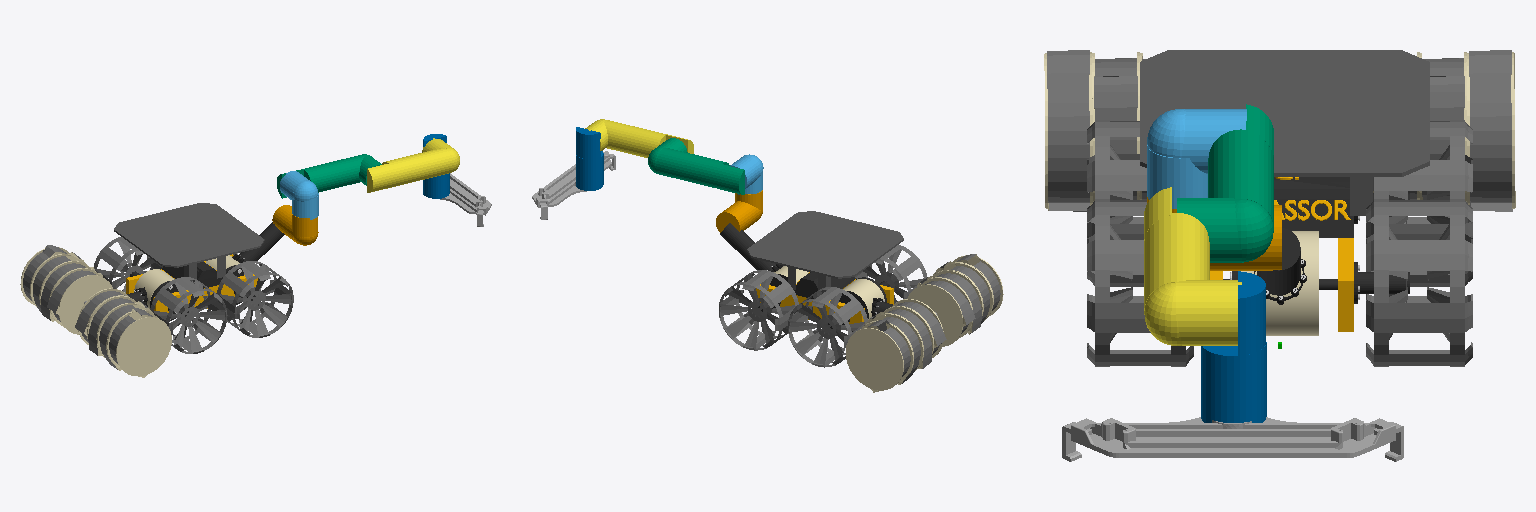
--- Render facts (derived) ---
3 views of the same robot in one strip: view 1: azimuth 30°, elevation 25°; view 2: azimuth 150°, elevation 25°; view 3: azimuth 270°, elevation 25° (orthographic).
Robot: ezrassor — 22 links, 21 joints (11 continuous, 2 prismatic, 8 fixed); root link base_link; default pose: every joint at zero.
Links seen in each view (by area): view 1: drum_back, platform, right_wheel_front, right_wheel_back, link4, link3, left_wheel_back, link2, body, link1, arm_front, arm_back (+2 smaller); view 2: drum_back, platform, left_wheel_front, left_wheel_back, link3, link4, right_wheel_back, link5, body, link1, arm_front, link6 (+2 smaller); view 3: platform, drum_back, left_wheel_front, link6, link4, link3, right_wheel_front, link5, body, link2, left_wheel_back, arm_front (+2 smaller).
Boxes of the visible links, <box> form: drum_back: <box>20,245,171,377</box>; platform: <box>114,203,264,283</box>; right_wheel_front: <box>216,261,293,337</box>; right_wheel_back: <box>150,277,227,353</box>; link4: <box>367,138,459,192</box>; link3: <box>277,154,381,198</box>; left_wheel_back: <box>94,237,162,292</box>; link2: <box>280,171,318,219</box>; body: <box>126,254,257,313</box>; link1: <box>272,205,318,245</box>; arm_front: <box>206,222,284,304</box>; arm_back: <box>127,269,178,320</box>; drum_back: <box>846,254,1003,392</box>; platform: <box>747,211,903,293</box>; left_wheel_front: <box>719,270,798,350</box>; left_wheel_back: <box>788,287,867,367</box>; link3: <box>648,138,744,194</box>; link4: <box>585,119,693,157</box>; right_wheel_back: <box>855,245,926,303</box>; link5: <box>576,127,603,190</box>; body: <box>756,272,893,324</box>; link1: <box>716,190,762,232</box>; arm_front: <box>720,223,808,286</box>; link6: <box>532,151,611,207</box>; platform: <box>1140,50,1429,215</box>; drum_back: <box>1044,50,1515,211</box>; left_wheel_front: <box>1358,199,1472,366</box>; link6: <box>1071,417,1395,457</box>; link4: <box>1144,187,1241,345</box>; link3: <box>1177,104,1273,262</box>; right_wheel_front: <box>1087,199,1193,366</box>; link5: <box>1201,271,1266,422</box>; body: <box>1210,177,1359,331</box>; link2: <box>1147,109,1246,208</box>; left_wheel_back: <box>1366,120,1472,286</box>; arm_front: <box>1230,228,1318,335</box>.
Bounding box of the posed robot: 2.37 × 1 × 0.7599 m (x, y, z).
17 mesh visuals loaded from 14 distinct referenced files (13 Collada DAE); not drawn: 1 (reference not matched to a file when rendering).

The robot description file, URDF, robot "ezrassor":
<?xml version="1.0" encoding="utf-8"?>
<!-- =================================================================================== -->
<!-- |    This document was autogenerated by xacro from ezrassor_arm.xacro             | -->
<!-- |    EDITING THIS FILE BY HAND IS NOT RECOMMENDED                                 | -->
<!-- =================================================================================== -->
<robot name="ezrassor">
  <gazebo reference="base_link">
    <selfCollide>0</selfCollide>
  </gazebo>
  <!-- Arms and Drums -->
  <gazebo reference="arm_back">
    <material>Gazebo/Black</material>
    <selfCollide>1</selfCollide>
  </gazebo>
  <gazebo reference="drum_back">
    <selfCollide>1</selfCollide>
  </gazebo>
  <!-- Wheels -->
  <gazebo reference="left_wheel_front">
    <selfCollide>1</selfCollide>
    <mu1 value=".8"/>
    <mu2 value=".8"/>
    <kp value="10000000.0"/>
    <kd value="1.0"/>
    <fdir1 value="1 0 0"/>
  </gazebo>
  <gazebo reference="left_wheel_back">
    <selfCollide>1</selfCollide>
    <mu1 value=".8"/>
    <mu2 value=".8"/>
    <kp value="10000000.0"/>
    <kd value="1.0"/>
    <fdir1 value="1 0 0"/>
  </gazebo>
  <gazebo reference="right_wheel_front">
    <selfCollide>1</selfCollide>
    <mu1 value=".8"/>
    <mu2 value=".8"/>
    <kp value="10000000.0"/>
    <kd value="1.0"/>
    <fdir1 value="1 0 0"/>
  </gazebo>
  <gazebo reference="right_wheel_back">
    <selfCollide>1</selfCollide>
    <mu1 value=".8"/>
    <mu2 value=".8"/>
    <kp value="10000000.0"/>
    <kd value="1.0"/>
    <fdir1 value="1 0 0"/>
  </gazebo>
  <!-- EZRASSOR Arm -->
  <gazebo reference="link1">
    <selfCollide>1</selfCollide>
  </gazebo>
  <gazebo reference="link2">
    <selfCollide>1</selfCollide>
  </gazebo>
  <gazebo reference="link3">
    <selfCollide>1</selfCollide>
  </gazebo>
  <gazebo reference="link4">
    <selfCollide>1</selfCollide>
  </gazebo>
  <gazebo reference="link5">
    <selfCollide>1</selfCollide>
  </gazebo>
  <gazebo reference="link6">
    <selfCollide>1</selfCollide>
  </gazebo>
  <gazebo reference="arm_camera">
    <selfCollide>1</selfCollide>
  </gazebo>
  <gazebo reference="grabber1">
    <selfCollide>1</selfCollide>
  </gazebo>
  <gazebo reference="grabber2">
    <selfCollide>1</selfCollide>
  </gazebo>
  <gazebo reference="arm_front">
    <selfCollide>1</selfCollide>
  </gazebo>
  <gazebo reference="platform">
    <selfCollide>1</selfCollide>
  </gazebo>
  <!-- Cameras -->
  <gazebo reference="depth_camera_front">
    <sensor name="depth_camera_front_camera" type="depth">
      <update_rate>30</update_rate>
      <camera>
        <horizontal_fov>1.29154</horizontal_fov>
        <image>
          <width>640</width>
          <height>480</height>
          <format>R8G8B8</format>
        </image>
        <clip>
          <near>0.105</near>
          <far>10</far>
        </clip>
      </camera>
      <plugin filename="libgazebo_ros_openni_kinect.so" name="depth_camera_front_controller">
        <baseline>0.2</baseline>
        <alwaysOn>true</alwaysOn>
        <updateRate>0.0</updateRate>
        <cameraName/>
        <imageTopicName>color/image_raw</imageTopicName>
        <cameraInfoTopicName>color/camera_info</cameraInfoTopicName>
        <depthImageTopicName>depth/image_raw</depthImageTopicName>
        <depthImageInfoTopicName>depth/camera_info</depthImageInfoTopicName>
        <pointCloudTopicName>depth/points</pointCloudTopicName>
        <frameName>/depth_camera_optical_frame</frameName>
        <pointCloudCutoff>0.105</pointCloudCutoff>
        <pointCloudCutoffMax>10</pointCloudCutoffMax>
        <distortionK1>0</distortionK1>
        <distortionK2>0</distortionK2>
        <distortionK3>0</distortionK3>
        <distortionT1>0</distortionT1>
        <distortionT2>0</distortionT2>
        <CxPrime>0</CxPrime>
        <Cx>0</Cx>
        <Cy>0</Cy>
        <focalLength>0</focalLength>
        <hackBaseline>0</hackBaseline>
      </plugin>
    </sensor>
  </gazebo>
  <!-- Arm Cameras -->
  <gazebo reference="arm_camera">
    <sensor name="depth_camera_arm_camera" type="depth">
      <update_rate>30</update_rate>
      <camera>
        <horizontal_fov>1.29154</horizontal_fov>
        <image>
          <width>640</width>
          <height>480</height>
          <format>R8G8B8</format>
        </image>
        <clip>
          <near>0.105</near>
          <far>10</far>
        </clip>
      </camera>
      <plugin filename="libgazebo_ros_openni_kinect.so" name="depth_camera_arm_controller">
        <baseline>0.2</baseline>
        <alwaysOn>true</alwaysOn>
        <updateRate>0.0</updateRate>
        <cameraName/>
        <imageTopicName>color/image_raw_arm</imageTopicName>
        <cameraInfoTopicName>color/camera_info_arm</cameraInfoTopicName>
        <depthImageTopicName>depth/image_raw_arm</depthImageTopicName>
        <depthImageInfoTopicName>depth/camera_info_arm</depthImageInfoTopicName>
        <pointCloudTopicName>depth/points_arm</pointCloudTopicName>
        <frameName>/arm_camera</frameName>
        <pointCloudCutoff>0.105</pointCloudCutoff>
        <pointCloudCutoffMax>10</pointCloudCutoffMax>
        <distortionK1>0</distortionK1>
        <distortionK2>0</distortionK2>
        <distortionK3>0</distortionK3>
        <distortionT1>0</distortionT1>
        <distortionT2>0</distortionT2>
        <CxPrime>0</CxPrime>
        <Cx>0</Cx>
        <Cy>0</Cy>
        <focalLength>0</focalLength>
        <hackBaseline>0</hackBaseline>
      </plugin>
    </sensor>
  </gazebo>
  <!-- IMU -->
  <gazebo>
    <plugin filename="libgazebo_ros_imu.so" name="imu_plugin">
      <alwaysOn>true</alwaysOn>
      <updateRate>50.0</updateRate>
      <bodyName>imu_link</bodyName>
      <topicName>imu</topicName>
      <gaussianNoise>0.05</gaussianNoise>
    </plugin>
  </gazebo>
  <gazebo>
    <plugin filename="libgazebo_ros_control.so" name="gazebo_ros_control">
    </plugin>
  </gazebo>
  <material name="black">
    <color rgba="0.0 0.0 0.0 1.0"/>
  </material>
  <material name="blue">
    <color rgba="0.0 0.0 0.8 1.0"/>
  </material>
  <material name="green">
    <color rgba="0.0 0.8 0.0 1.0"/>
  </material>
  <material name="grey">
    <color rgba="0.2 0.2 0.2 1.0"/>
  </material>
  <material name="orange">
    <color rgba="1.0 0.423529411765 0.0392156862745 1.0"/>
  </material>
  <material name="brown">
    <color rgba="0.870588235294 0.811764705882 0.764705882353 1.0"/>
  </material>
  <material name="red">
    <color rgba="0.8 0.0 0.0 1.0"/>
  </material>
  <material name="white">
    <color rgba="1.0 1.0 1.0 1.0"/>
  </material>
  <!-- ARM VISUAL AND COLLISION MACROS -->
  <!--Below are all of the robot's Links/-->
  <link name="base_link">
    <pose>0 0 0 0 0 0</pose>
  </link>
  <link name="body">
    <pose>0 0 0 0 0 0</pose>
    <inertial>
      <mass value="15.0"/>
      <origin rpy=" 0 0 0" xyz="0 0 0"/>
      <inertia ixx="0.5" ixy="0" ixz="0" iyy="1.0" iyz="0" izz="0.1"/>
    </inertial>
    <collision name="collision">
      <origin rpy=" 0 0 0" xyz="0 0 0"/>
      <geometry>
        <mesh filename="package://ezrassor_sim_description/meshes/base_unit.dae" scale="0.35 0.35 0.35"/>
      </geometry>
    </collision>
    <visual name="base_link_visual">
      <origin rpy=" 0 0 0" xyz="0 0 0"/>
      <geometry>
        <mesh filename="package://ezrassor_sim_description/meshes/base_unit.dae" scale="0.35 0.35 0.35"/>
      </geometry>
    </visual>
  </link>
  <link name="left_wheel_front">
    <collision name="collision">
      <origin rpy="0 0 0" xyz="0 0 0"/>
      <geometry>
        <mesh filename="package://ezrassor_sim_description/meshes/wheel.dae" scale="0.35 0.35 0.35"/>
      </geometry>
      <surface>
        <friction>
          <mu> .6 </mu>
          <mu2> .6 </mu2>
        </friction>
      </surface>
      <surface>
        <friction>
          <mu> .6 </mu>
          <mu2> .6 </mu2>
        </friction>
      </surface>
    </collision>
    <visual name="left_wheel_front_visual">
      <origin rpy="0 0 0" xyz="0 0 0"/>
      <geometry>
        <mesh filename="package://ezrassor_sim_description/meshes/wheel.dae" scale="0.35 0.35 0.35"/>
      </geometry>
    </visual>
    <inertial>
      <origin rpy="0 0 0" xyz="0 0 0"/>
      <mass value="5"/>
      <inertia ixx="0.0571666666667" ixy="0" ixz="0" iyy="0.0571666666667" iyz="0" izz="0.081"/>
    </inertial>
  </link>
  <link name="right_wheel_front">
    <collision name="collision">
      <origin rpy="0 0 3.14159" xyz="0 0 0"/>
      <geometry>
        <mesh filename="package://ezrassor_sim_description/meshes/wheel.dae" scale="0.35 0.35 0.35"/>
      </geometry>
      <surface>
        <friction>
          <mu> .6 </mu>
          <mu2> .6 </mu2>
        </friction>
      </surface>
    </collision>
    <visual name="right_wheel_front_visual">
      <origin rpy="0 0 3.14159" xyz="0 0 0"/>
      <geometry>
        <mesh filename="package://ezrassor_sim_description/meshes/wheel.dae" scale="0.35 0.35 0.35"/>
      </geometry>
    </visual>
    <inertial>
      <origin rpy="0 0 3.14159" xyz="0 0 0"/>
      <mass value="5"/>
      <inertia ixx="0.0571666666667" ixy="0" ixz="0" iyy="0.0571666666667" iyz="0" izz="0.081"/>
    </inertial>
  </link>
  <link name="left_wheel_back">
    <collision name="collision">
      <origin rpy="0 0 0" xyz="0 0 0"/>
      <geometry>
        <mesh filename="package://ezrassor_sim_description/meshes/wheel.dae" scale="0.35 0.35 0.35"/>
      </geometry>
      <surface>
        <friction>
          <mu> .6 </mu>
          <mu2> .6 </mu2>
        </friction>
      </surface>
    </collision>
    <visual name="left_wheel_back_visual">
      <origin rpy="0 0 0" xyz="0 0 0"/>
      <geometry>
        <mesh filename="package://ezrassor_sim_description/meshes/wheel.dae" scale="0.35 0.35 0.35"/>
      </geometry>
    </visual>
    <inertial>
      <origin rpy="0 0 0" xyz="0 0 0"/>
      <mass value="5"/>
      <inertia ixx="0.0571666666667" ixy="0" ixz="0" iyy="0.0571666666667" iyz="0" izz="0.081"/>
    </inertial>
  </link>
  <link name="right_wheel_back">
    <collision name="collision">
      <origin rpy="0 0 3.14159" xyz="0 0 0"/>
      <geometry>
        <mesh filename="package://ezrassor_sim_description/meshes/wheel.dae" scale="0.35 0.35 0.35"/>
      </geometry>
      <surface>
        <friction>
          <mu> .6 </mu>
          <mu2> .6 </mu2>
        </friction>
      </surface>
    </collision>
    <visual name="right_wheel_back_visual">
      <origin rpy="0 0 3.14159" xyz="0 0 0"/>
      <geometry>
        <mesh filename="package://ezrassor_sim_description/meshes/wheel.dae" scale="0.35 0.35 0.35"/>
      </geometry>
    </visual>
    <inertial>
      <origin rpy="0 0 3.14159" xyz="0 0 0"/>
      <mass value="5"/>
      <inertia ixx="0.0571666666667" ixy="0" ixz="0" iyy="0.0571666666667" iyz="0" izz="0.081"/>
    </inertial>
  </link>
  <link name="arm_back">
    <collision name="collision">
      <origin rpy="3.1415 0 3.1415" xyz="0 0 0"/>
      <geometry>
        <mesh filename="package://ezrassor_sim_description/meshes/drum_arm.dae" scale="0.35 0.35 0.35"/>
      </geometry>
    </collision>
    <visual name="visual">
      <origin rpy="3.1415 0 3.1415" xyz="0 0 0"/>
      <geometry>
        <mesh filename="package://ezrassor_sim_description/meshes/drum_arm.dae" scale="0.35 0.35 0.35"/>
      </geometry>
    </visual>
    <inertial>
      <origin rpy="0 0 3.1415" xyz="0 0 0"/>
      <mass value="5"/>
      <inertia ixx="0.040625" ixy="0" ixz="0" iyy="0.040625" iyz="0" izz="0.00625"/>
      <inertia ixx="1.0" ixy="0.0" ixz="0.0" iyy="1.0" iyz="0.0" izz="1.0"/>
    </inertial>
  </link>
  <link name="drum_back">
    <!-- <collision name="collision">
      <origin xyz="0 0 0" rpy="0 0 3.14159"/>
      <geometry>
        <robot_arm_drum />
      </geometry>
    </collision> -->
    <collision name="collision">
      <origin rpy="0 1.5707 1.5707" xyz="0 0 0"/>
      <geometry>
        <cylinder length="1.0" radius="0.1839"/>
      </geometry>
    </collision>
    <visual name="drum_back">
      <origin rpy="3.1415 0 3.14159" xyz="0 0 0"/>
      <geometry>
        <mesh filename="package://ezrassor_sim_description/meshes/drum.dae" scale="0.35 0.35 0.35"/>
      </geometry>
    </visual>
    <inertial>
      <origin rpy="0 0 3.14159" xyz="0 0 0"/>
      <mass value="5"/>
      <inertia ixx="0.458940679167" ixy="0" ixz="0" iyy="0.458940679167" iyz="0" izz="0.084548025"/>
    </inertial>
  </link>
  <!-- Arm links -->
  <link name="link1">
    <pose>0 0 0 0 0 0</pose>
    <inertial>
      <mass value="1.0"/>
      <origin rpy=" 0 0 0" xyz="0 0 0"/>
      <inertia ixx="0" ixy="0" ixz="0" iyy="0" iyz="0" izz="0"/>
    </inertial>
    <collision name="collision">
      <origin rpy=" 0 0 0" xyz="0 0 0"/>
      <geometry>
        <mesh filename="package://ezrassor_sim_description/meshes/link1.dae" scale="0.35 0.35 0.35"/>
      </geometry>
    </collision>
    <visual name="link1">
      <origin rpy=" 0 0 0" xyz="0 0 0"/>
      <geometry>
        <mesh filename="package://ezrassor_sim_description/meshes/link1.dae" scale="0.35 0.35 0.35"/>
      </geometry>
    </visual>
  </link>
  <link name="link2">
    <pose>0 0 0 0 0 0</pose>
    <inertial>
      <mass value="1.0"/>
      <origin rpy=" 0 0 0" xyz="0 0 0"/>
      <inertia ixx="0" ixy="0" ixz="0" iyy="0" iyz="0" izz="0"/>
    </inertial>
    <collision name="collision">
      <origin rpy=" 0 0 0" xyz="0 0.08 0.135"/>
      <geometry>
        <mesh filename="package://ezrassor_sim_description/meshes/link2.dae" scale="0.35 0.35 0.35"/>
      </geometry>
    </collision>
    <visual name="link2">
      <origin rpy=" 0 0 0" xyz="0 0.08 0.135"/>
      <geometry>
        <mesh filename="package://ezrassor_sim_description/meshes/link2.dae" scale="0.35 0.35 0.35"/>
      </geometry>
    </visual>
  </link>
  <link name="link3">
    <pose>0 0 0 0 0 0</pose>
    <inertial>
      <mass value="1.0"/>
      <origin rpy=" 0 0 0" xyz="0 0 0"/>
      <inertia ixx="0" ixy="0" ixz="0" iyy="0" iyz="0" izz="0"/>
    </inertial>
    <collision name="collision">
      <origin rpy=" 0 0 0" xyz="0.25 0.1 0"/>
      <geometry>
        <mesh filename="package://ezrassor_sim_description/meshes/link3.dae" scale="0.35 0.35 0.35"/>
      </geometry>
    </collision>
    <visual name="link3">
      <origin rpy=" 0 0 0" xyz="0.25 0.1 0"/>
      <geometry>
        <mesh filename="package://ezrassor_sim_description/meshes/link3.dae" scale="0.35 0.35 0.35"/>
      </geometry>
    </visual>
  </link>
  <link name="link4">
    <pose>0 0 0 0 0 0</pose>
    <inertial>
      <mass value="1.0"/>
      <origin rpy=" 0 0 0" xyz="0 0 0"/>
      <inertia ixx="0" ixy="0" ixz="0" iyy="0" iyz="0" izz="0"/>
    </inertial>
    <collision name="collision">
      <origin rpy=" 0 0 0" xyz="0.23 0 0"/>
      <geometry>
        <mesh filename="package://ezrassor_sim_description/meshes/link4.dae" scale="0.35 0.35 0.35"/>
      </geometry>
    </collision>
    <visual name="link4">
      <origin rpy=" 0 0 0" xyz="0.23 0 0"/>
      <geometry>
        <mesh filename="package://ezrassor_sim_description/meshes/link4.dae" scale="0.35 0.35 0.35"/>
      </geometry>
    </visual>
  </link>
  <link name="link5">
    <pose>0 0 0 0 0 0</pose>
    <inertial>
      <mass value="1.0"/>
      <origin rpy=" 0 0 0" xyz="0 0 0"/>
      <inertia ixx="0" ixy="0" ixz="0" iyy="0" iyz="0" izz="0"/>
    </inertial>
    <collision name="collision">
      <origin rpy=" 0 0 0" xyz="0 0.12 0"/>
      <geometry>
        <mesh filename="package://ezrassor_sim_description/meshes/link5.dae" scale="0.35 0.35 0.35"/>
      </geometry>
    </collision>
    <visual name="link5">
      <origin rpy=" 0 0 0" xyz="0 0.12 0"/>
      <geometry>
        <mesh filename="package://ezrassor_sim_description/meshes/link5.dae" scale="0.35 0.35 0.35"/>
      </geometry>
    </visual>
  </link>
  <link name="link6">
    <pose>0 0 0 0 0 0</pose>
    <inertial>
      <mass value="1.0"/>
      <origin rpy=" 0 0 0" xyz="0 0 0"/>
      <inertia ixx="0" ixy="0" ixz="0" iyy="0" iyz="0" izz="0"/>
    </inertial>
    <collision name="collision">
      <origin rpy=" 0 0 0" xyz="0.096 0 -0.24"/>
      <geometry>
        <mesh filename="package://ezrassor_sim_description/meshes/link6.1.dae" scale="0.35 0.35 0.45"/>
      </geometry>
    </collision>
    <visual name="link6">
      <origin rpy=" 0 0 0" xyz="0.096 0 -0.24"/>
      <geometry>
        <mesh filename="package://ezrassor_sim_description/meshes/link6.1.dae" scale="0.35 0.35 0.45"/>
      </geometry>
    </visual>
  </link>
  <link name="arm_camera">
    <pose>0 0 0 0 0 0</pose>
    <inertial>
      <mass value="0.1"/>
      <origin rpy=" 0 0 0" xyz="0 0 0"/>
      <inertia ixx="0" ixy="0" ixz="0" iyy="0" iyz="0" izz="0"/>
    </inertial>
    <visual name="arm_camera">
      <origin rpy=" 0 0 0" xyz="0.04 0.4 -0.04"/>
      <geometry>
        <mesh filename="package://ezrassor_sim_description/meshes/arm_camera.dae" scale="0.35 0.35 0.35"/>
      </geometry>
    </visual>
  </link>
  <link name="grabber1">
    <pose>0 0 0 0 0 0</pose>
    <inertial>
      <mass value="0.1"/>
      <origin rpy=" 0 0 0" xyz="0 0 0"/>
      <inertia ixx="0" ixy="0" ixz="0" iyy="0" iyz="0" izz="0"/>
    </inertial>
    <collision name="collision">
      <origin rpy=" 0 0 0" xyz="0 0 0"/>
      <geometry>
        <mesh filename="package://ezrassor_sim_description/meshes/grabber1.dae" scale="0.35 0.35 0.35"/>
      </geometry>
    </collision>
    <visual name="grabber1">
      <origin rpy=" 0 0 0" xyz="0 0 0"/>
      <geometry>
        <mesh filename="package://ezrassor_sim_description/meshes/grabber1.dae" scale="0.35 0.35 0.35"/>
      </geometry>
    </visual>
  </link>
  <link name="grabber2">
    <pose>0 0 0 0 0 0</pose>
    <inertial>
      <mass value="0.1"/>
      <origin rpy=" 0 0 0" xyz="0 0 0"/>
      <inertia ixx="0" ixy="0" ixz="0" iyy="0" iyz="0" izz="0"/>
    </inertial>
    <collision name="collision">
      <origin rpy=" 0 0 0" xyz="0 0 0"/>
      <geometry>
        <mesh filename="package://ezrassor_sim_description/meshes/grabber2.dae" scale="0.35 0.35 0.35"/>
      </geometry>
    </collision>
    <visual name="grabber2">
      <origin rpy=" 0 0 0" xyz="0 0 0"/>
      <geometry>
        <mesh filename="package://ezrassor_sim_description/meshes/grabber2.dae" scale="0.35 0.35 0.35"/>
      </geometry>
    </visual>
  </link>
  <link name="arm_front">
    <pose>0 0 0 0 0 0</pose>
    <inertial>
      <mass value="1.0"/>
      <origin rpy=" 0 0 0" xyz="0 0 0"/>
      <inertia ixx="0" ixy="0" ixz="0" iyy="0" iyz="0" izz="0"/>
    </inertial>
    <visual name="arm_front">
      <origin rpy=" 0 -0.60 0" xyz="0.2 0 0"/>
      <geometry>
        <mesh filename="package://ezrassor_sim_description/meshes/drum_arm.dae" scale="0.35 0.35 0.35"/>
      </geometry>
    </visual>
  </link>
  <link name="platform">
    <pose>0 0 0 0 0 0</pose>
    <inertial>
      <mass value="1.0"/>
      <origin rpy=" 0 0 0" xyz="0 0 0"/>
      <inertia ixx="0" ixy="0" ixz="0" iyy="0" iyz="0" izz="0"/>
    </inertial>
    <visual name="platform">
      <origin rpy=" 0 0 0" xyz="0.1 0.06 0.1"/>
      <geometry>
        <mesh filename="package://ezrassor_sim_description/meshes/platform.dae" scale="2 2 2"/>
      </geometry>
    </visual>
  </link>
  <!-- Transmissions -->
  <transmission name="left_wheel_front_tran">
    <type>transmission_interface/SimpleTransmission</type>
    <joint name="left_wheel_front_hinge">
      <hardwareInterface>hardware_interface/VelocityJointInterface</hardwareInterface>
    </joint>
    <actuator name="left_wheel_front_motor">
      <hardwareInterface>hardware_interface/VelocityJointInterface</hardwareInterface>
      <mechanicalReduction>1</mechanicalReduction>
    </actuator>
  </transmission>
  <transmission name="left_wheel_back_tran">
    <type>transmission_interface/SimpleTransmission</type>
    <joint name="left_wheel_back_hinge">
      <hardwareInterface>hardware_interface/VelocityJointInterface</hardwareInterface>
    </joint>
    <actuator name="left_wheel_back_motor">
      <hardwareInterface>hardware_interface/VelocityJointInterface</hardwareInterface>
      <mechanicalReduction>1</mechanicalReduction>
    </actuator>
  </transmission>
  <transmission name="right_wheel_front_tran">
    <type>transmission_interface/SimpleTransmission</type>
    <joint name="right_wheel_front_hinge">
      <hardwareInterface>hardware_interface/VelocityJointInterface</hardwareInterface>
    </joint>
    <actuator name="right_wheel_front_motor">
      <hardwareInterface>hardware_interface/VelocityJointInterface</hardwareInterface>
      <mechanicalReduction>1</mechanicalReduction>
    </actuator>
  </transmission>
  <transmission name="right_wheel_back_tran">
    <type>transmission_interface/SimpleTransmission</type>
    <joint name="right_wheel_back_hinge">
      <hardwareInterface>hardware_interface/VelocityJointInterface</hardwareInterface>
    </joint>
    <actuator name="right_wheel_back_motor">
      <hardwareInterface>hardware_interface/VelocityJointInterface</hardwareInterface>
      <mechanicalReduction>1</mechanicalReduction>
    </actuator>
  </transmission>
  <transmission name="arm_back_tran">
    <type>transmission_interface/SimpleTransmission</type>
    <joint name="arm_back_hinge">
      <hardwareInterface>hardware_interface/VelocityJointInterface</hardwareInterface>
    </joint>
    <actuator name="arm_back_motor">
      <hardwareInterface>hardware_interface/VelocityJointInterface</hardwareInterface>
      <mechanicalReduction>1</mechanicalReduction>
    </actuator>
  </transmission>
  <transmission name="drum_back_hinge_tran">
    <type>transmission_interface/SimpleTransmission</type>
    <joint name="drum_back_hinge">
      <hardwareInterface>hardware_interface/VelocityJointInterface</hardwareInterface>
    </joint>
    <actuator name="drum_back_hinge_motor">
      <hardwareInterface>hardware_interface/VelocityJointInterface</hardwareInterface>
      <mechanicalReduction>1</mechanicalReduction>
    </actuator>
  </transmission>
  <transmission name="joint1_tran">
    <type>transmission_interface/SimpleTransmission</type>
    <joint name="joint1">
      <hardwareInterface>hardware_interface/VelocityJointInterface</hardwareInterface>
    </joint>
    <actuator name="joint1_motor">
      <hardwareInterface>hardware_interface/VelocityJointInterface</hardwareInterface>
      <mechanicalReduction>1</mechanicalReduction>
    </actuator>
  </transmission>
  <transmission name="joint2_tran">
    <type>transmission_interface/SimpleTransmission</type>
    <joint name="joint2">
      <hardwareInterface>hardware_interface/VelocityJointInterface</hardwareInterface>
    </joint>
    <actuator name="joint2_motor">
      <hardwareInterface>hardware_interface/VelocityJointInterface</hardwareInterface>
      <mechanicalReduction>1</mechanicalReduction>
    </actuator>
  </transmission>
  <transmission name="joint3_tran">
    <type>transmission_interface/SimpleTransmission</type>
    <joint name="joint3">
      <hardwareInterface>hardware_interface/VelocityJointInterface</hardwareInterface>
    </joint>
    <actuator name="joint3_motor">
      <hardwareInterface>hardware_interface/VelocityJointInterface</hardwareInterface>
      <mechanicalReduction>1</mechanicalReduction>
    </actuator>
  </transmission>
  <transmission name="joint4_tran">
    <type>transmission_interface/SimpleTransmission</type>
    <joint name="joint4">
      <hardwareInterface>hardware_interface/VelocityJointInterface</hardwareInterface>
    </joint>
    <actuator name="joint4_motor">
      <hardwareInterface>hardware_interface/VelocityJointInterface</hardwareInterface>
      <mechanicalReduction>1</mechanicalReduction>
    </actuator>
  </transmission>
  <transmission name="joint5_tran">
    <type>transmission_interface/SimpleTransmission</type>
    <joint name="joint5">
      <hardwareInterface>hardware_interface/VelocityJointInterface</hardwareInterface>
    </joint>
    <actuator name="joint5_motor">
      <hardwareInterface>hardware_interface/VelocityJointInterface</hardwareInterface>
      <mechanicalReduction>1</mechanicalReduction>
    </actuator>
  </transmission>
  <transmission name="grabber1_tran">
    <type>transmission_interface/SimpleTransmission</type>
    <joint name="grabber_joint1">
      <hardwareInterface>hardware_interface/VelocityJointInterface</hardwareInterface>
    </joint>
    <actuator name="grabber1_motor">
      <hardwareInterface>hardware_interface/VelocityJointInterface</hardwareInterface>
      <mechanicalReduction>1</mechanicalReduction>
    </actuator>
  </transmission>
  <transmission name="grabber2_tran">
    <type>transmission_interface/SimpleTransmission</type>
    <joint name="grabber_joint2">
      <hardwareInterface>hardware_interface/VelocityJointInterface</hardwareInterface>
    </joint>
    <actuator name="grabber2_motor">
      <hardwareInterface>hardware_interface/VelocityJointInterface</hardwareInterface>
      <mechanicalReduction>1</mechanicalReduction>
    </actuator>
  </transmission>
  <!-- Front Camera Added -->
  <link name="depth_camera_front">
    <collision>
      <origin rpy="0 0 0" xyz="0 0 0"/>
      <geometry>
        <box size="0.01 0.01 0.01"/>
      </geometry>
    </collision>
    <visual>
      <origin rpy="0 0 0" xyz="0 0 0"/>
      <geometry>
        <box size="0.01 0.01 0.01"/>
      </geometry>
      <material name="green"/>
    </visual>
    <inertial>
      <mass value="0.1"/>
      <origin rpy="0 0 0" xyz="0 0 0"/>
      <inertia ixx="1.66666666667e-06" ixy="0" ixz="0" iyy="1.66666666667e-06" iyz="0" izz="1.66666666667e-06"/>
      <inertia ixx="1e-6" ixy="0" ixz="0" iyy="1e-6" iyz="0" izz="1e-6"/>
    </inertial>
  </link>
  <link name="imu_link">
    <collision>
      <origin rpy="0 0 0" xyz="0 0 0"/>
      <geometry>
        <box size="0.01 0.01 0.01"/>
      </geometry>
    </collision>
    <visual>
      <origin rpy="0 0 0" xyz="0 0 0"/>
      <geometry>
        <box size="0.01 0.01 0.01"/>
      </geometry>
      <material name="green"/>
    </visual>
    <inertial>
      <mass value="0.1"/>
      <origin rpy="0 0 0" xyz="0 0 0"/>
      <inertia ixx="1.66666666667e-06" ixy="0" ixz="0" iyy="1.66666666667e-06" iyz="0" izz="1.66666666667e-06"/>
      <inertia ixx="1e-6" ixy="0" ixz="0" iyy="1e-6" iyz="0" izz="1e-6"/>
    </inertial>
  </link>
  <joint name="body_joint" type="fixed">
    <axis xyz="0 0 0"/>
    <origin rpy="0 0 0" xyz="0 0 0"/>
    <parent link="base_link"/>
    <child link="body"/>
  </joint>
  <joint name="imu_joint" type="fixed">
    <axis xyz="0 0 0"/>
    <origin rpy="0 0 0" xyz="0 0 0"/>
    <parent link="base_link"/>
    <child link="imu_link"/>
  </joint>
  <joint name="camera_front_joint" type="fixed">
    <origin rpy="0 0 0" xyz=".3 0 -.1"/>
    <axis xyz="0 1 0"/>
    <parent link="base_link"/>
    <child link="depth_camera_front"/>
  </joint>
  <joint name="depth_camera_optical_joint" type="fixed">
    <origin rpy="-1.57079632679 0 -1.57079632679" xyz="0 0 0"/>
    <parent link="depth_camera_front"/>
    <child link="depth_camera_optical_frame"/>
  </joint>
  <link name="depth_camera_optical_frame"/>
  <joint name="left_wheel_front_hinge" type="continuous">
    <origin rpy="0 0 0" xyz="0.20 0.285 0"/>
    <child link="left_wheel_front"/>
    <parent link="base_link"/>
    <axis rpy="0 0 0" xyz="0 1 0"/>
    <limit effort="100" velocity="100"/>
    <joint_properties damping="0.0" friction="0.0"/>
  </joint>
  <joint name="right_wheel_front_hinge" type="continuous">
    <origin rpy="0 0 0" xyz="0.20 -0.285 0"/>
    <child link="right_wheel_front"/>
    <parent link="base_link"/>
    <axis rpy="0 0 0" xyz="0 1 0"/>
    <limit effort="100" velocity="100"/>
    <joint_properties damping="0.0" friction="0.0"/>
  </joint>
  <joint name="left_wheel_back_hinge" type="continuous">
    <origin rpy="0 0 0" xyz="-0.20 0.285 0"/>
    <child link="left_wheel_back"/>
    <parent link="base_link"/>
    <axis rpy="0 0 0" xyz="0 1 0"/>
    <limit effort="100" velocity="100"/>
    <joint_properties damping="0.0" friction="0.0"/>
  </joint>
  <joint name="right_wheel_back_hinge" type="continuous">
    <origin rpy="0 0 0" xyz="-0.20 -0.285 0"/>
    <child link="right_wheel_back"/>
    <parent link="base_link"/>
    <axis rpy="0 0 0" xyz="0 1 0"/>
    <limit effort="100" velocity="100"/>
    <joint_properties damping="0.0" friction="0.0"/>
  </joint>
  <joint name="arm_back_hinge" type="continuous">
    <origin rpy="0 0 0" xyz="-0.20 0 0"/>
    <child link="arm_back"/>
    <parent link="base_link"/>
    <axis rpy="0 0 0" xyz="0 1 0"/>
    <limit effort="100" velocity="100"/>
    <joint_properties damping="0.0" friction="0.0"/>
  </joint>
  <joint name="drum_back_hinge" type="continuous">
    <origin rpy="3.1415 0 0" xyz="-0.388245 0 0"/>
    <child link="drum_back"/>
    <parent link="arm_back"/>
    <axis rpy="0 0 0" xyz="0 1 0"/>
    <limit effort="100" velocity="100"/>
    <joint_properties damping="0.0" friction="0.0"/>
  </joint>
  <!-- ARM Joints-->
  <joint name="joint0" type="fixed">
    <axis xyz="0 0 0"/>
    <origin rpy="0 0 0" xyz="0.55 -0.1 0.27"/>
    <parent link="base_link"/>
    <child link="link1"/>
  </joint>
  <joint name="joint0.1" type="fixed">
    <axis xyz="0 0 0"/>
    <origin rpy="0 0 0" xyz="0 0 0"/>
    <parent link="base_link"/>
    <child link="arm_front"/>
  </joint>
  <joint name="joint1" type="continuous">
    <origin rpy="0 0 0" xyz="0 -0.12 0.09"/>
    <child link="link2"/>
    <parent link="link1"/>
    <axis rpy="0 0 0" xyz="0 0 1"/>
    <joint_properties damping="0.0" friction="0.0"/>
  </joint>
  <joint name="joint2" type="continuous">
    <origin rpy="0 0 0" xyz="0 0.037 0.13"/>
    <child link="link3"/>
    <parent link="link2"/>
    <axis rpy="0 0 0" xyz="0 1 0"/>
    <joint_properties damping="0.0" friction="0.0"/>
  </joint>
  <joint name="joint3" type="continuous">
    <origin rpy="0 0 0" xyz="0.44 -0.037 0"/>
    <child link="link4"/>
    <parent link="link3"/>
    <axis rpy="0 0 0" xyz="0 1 0"/>
    <joint_properties damping="0.0" friction="0.0"/>
  </joint>
  <joint name="joint4" type="continuous">
    <origin rpy="0 0 0" xyz="0.42 0.0 0"/>
    <child link="link5"/>
    <parent link="link4"/>
    <axis rpy="0 0 0" xyz="0 1 0"/>
    <joint_properties damping="0.0" friction="0.0"/>
  </joint>
  <joint name="joint5" type="continuous">
    <origin rpy="0 0 0" xyz="0 0.12 0"/>
    <child link="link6"/>
    <parent link="link5"/>
    <axis rpy="0 0 0" xyz="0 0 1"/>
    <joint_properties damping="0.0" friction="0.0"/>
  </joint>
  <joint name="arm_camera_joint" type="fixed">
    <axis xyz="0 0 0"/>
    <origin rpy="0 0 0" xyz="0 0 0"/>
    <parent link="link1"/>
    <child link="arm_camera"/>
  </joint>
  <joint name="platform_joint" type="fixed">
    <axis xyz="0 0 0"/>
    <origin rpy="0 0 0" xyz="0 0 0"/>
    <parent link="link1"/>
    <child link="platform"/>
  </joint>
  <joint name="grabber_joint1" type="prismatic">
    <origin rpy="0 0 0" xyz="0.1 -0.31 -0.24"/>
    <child link="grabber1"/>
    <parent link="link6"/>
    <axis rpy="0 0 0" xyz="1 1 0"/>
    <joint_properties damping="0.0" friction="0.0"/>
    <limit effort="1" lower="-0.02" upper="0.03" velocity="1"/>
  </joint>
  <joint name="grabber_joint2" type="prismatic">
    <origin rpy="0 0 0" xyz="0.1 0.31 -0.24"/>
    <child link="grabber2"/>
    <parent link="link6"/>
    <axis rpy="0 0 0" xyz="1 -1 0"/>
    <joint_properties damping="0.0" friction="0.0"/>
    <limit effort="1" lower="-0.02" upper="0.03" velocity="1"/>
  </joint>
</robot>
